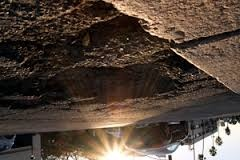pothole: (0, 71, 212, 118), (0, 36, 170, 72), (0, 0, 148, 38)
